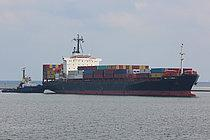Ship: (38, 50, 203, 100)
